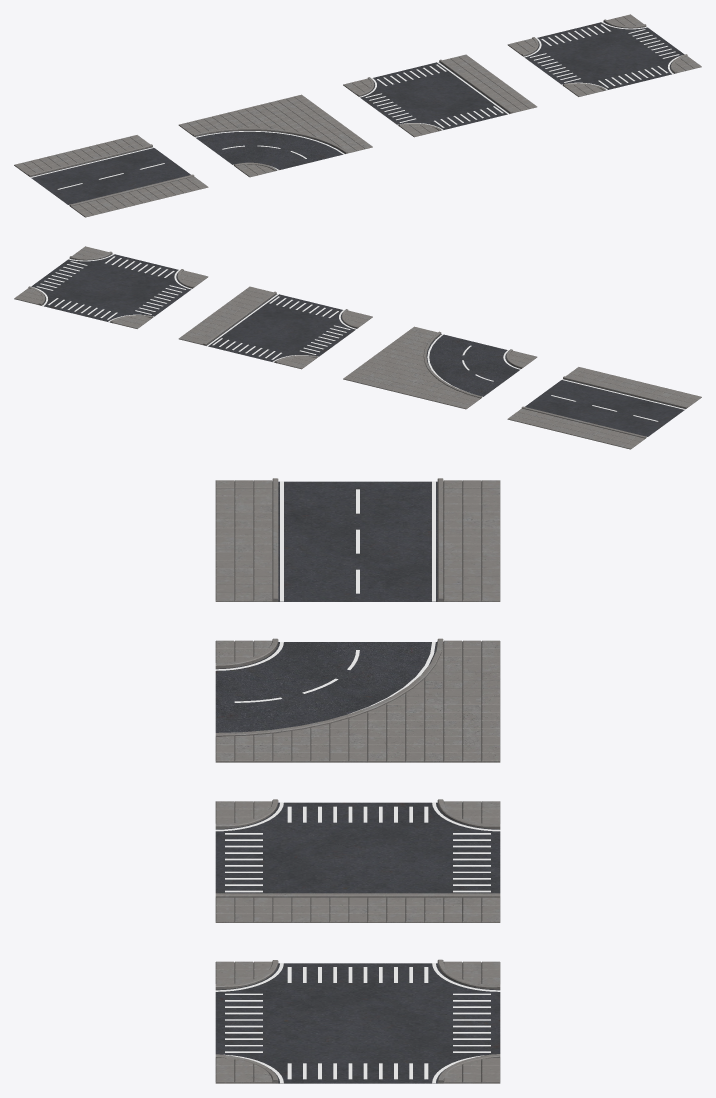
Rendered from roads_pbr.glb.
3 views of the same model, one above another, from view 1: azimuth 30°, elevation 25°; view 2: azimuth 150°, elevation 25°; view 3: azimuth 270°, elevation 25° (orthographic). The views are drawn at different scales.
Parts seen in each view (by area): view 1: Road02, Road01, Road03, Road04; view 2: Road01, Road02, Road03, Road04; view 3: Road02, Road04, Road01, Road03.
Part boxes in pixels (x1,y1,x2,y2): Road02: [178, 94, 372, 177]; Road01: [14, 135, 208, 217]; Road03: [343, 54, 537, 137]; Road04: [507, 14, 701, 96]; Road01: [507, 367, 701, 449]; Road02: [343, 326, 537, 409]; Road03: [178, 286, 372, 369]; Road04: [14, 246, 208, 328]; Road02: [215, 638, 500, 762]; Road04: [215, 959, 500, 1083]; Road01: [215, 478, 500, 601]; Road03: [215, 799, 500, 922].
Size of the model in its own units: 75 by 0.2765 by 15.
3 materials, 2 textured.
